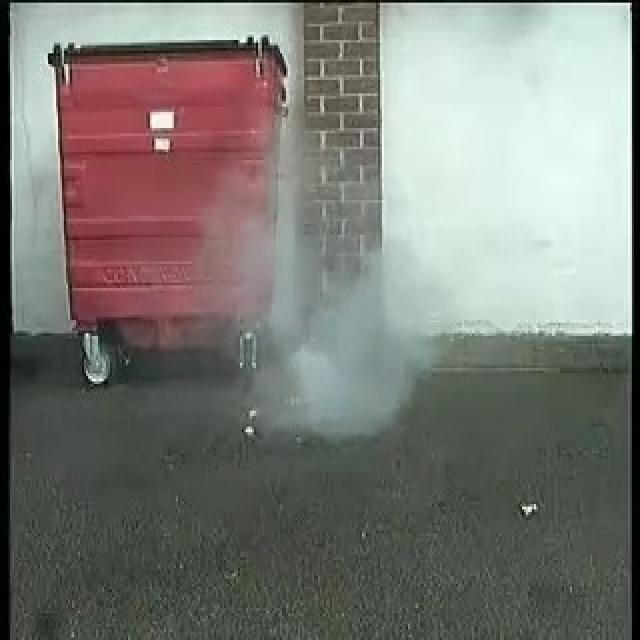Smoke: (273, 252, 443, 430)
